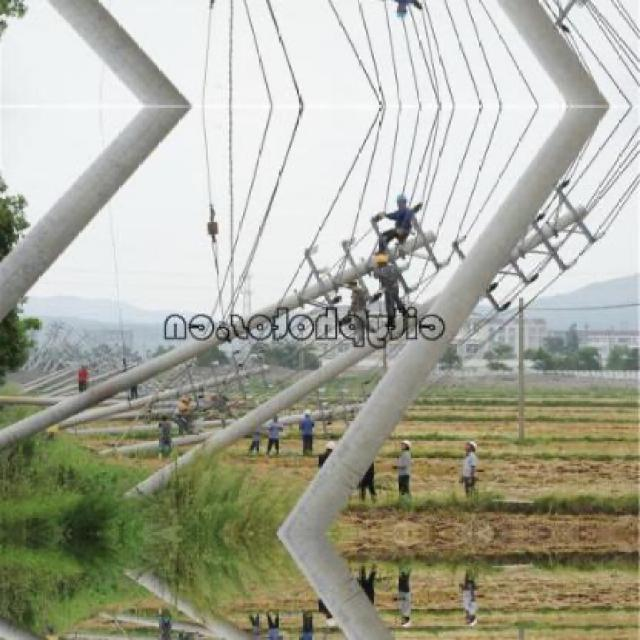helmet: (463, 436, 477, 455), (463, 612, 477, 631), (376, 254, 390, 272), (398, 192, 408, 212), (402, 438, 412, 458), (326, 438, 336, 458), (398, 3, 408, 23), (402, 610, 412, 630), (326, 610, 336, 630), (303, 408, 312, 422)
